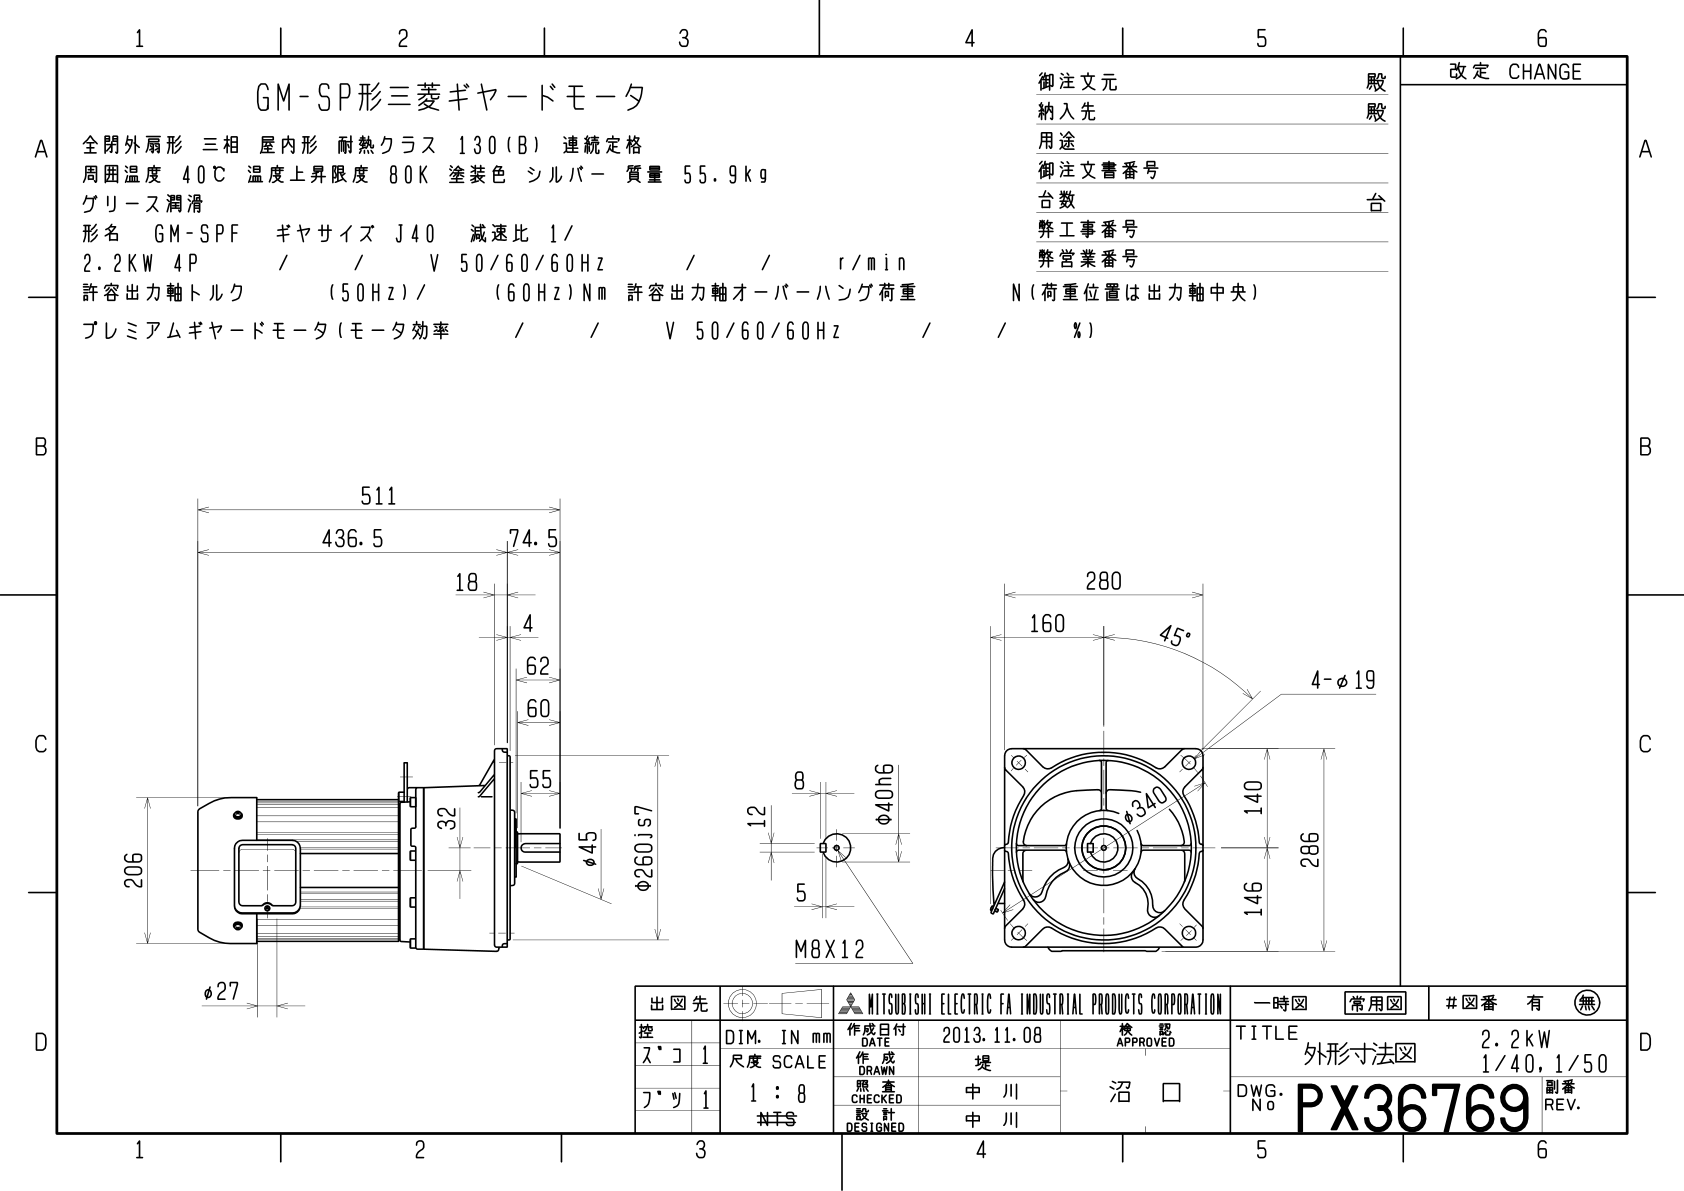GM_SP_屋内＿三相_フランジ: (12, 10, 1684, 1191)
